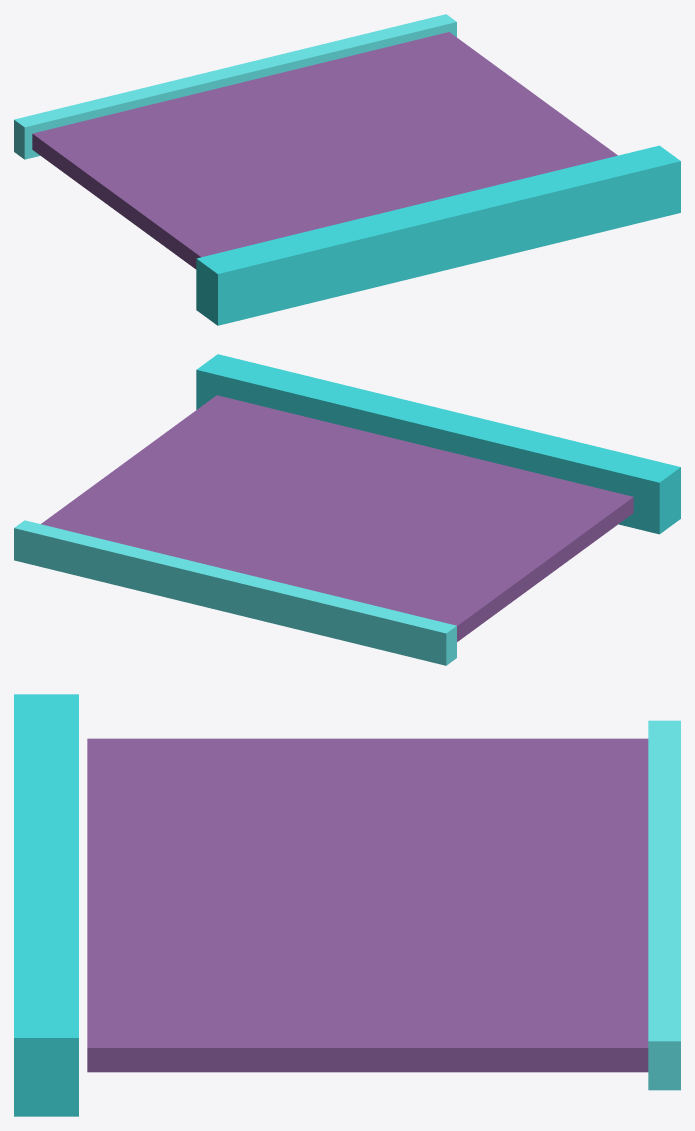
The model's file is motorized-shade-track.glb.
3 views of the same model, one above another, from view 1: azimuth 30°, elevation 25°; view 2: azimuth 150°, elevation 25°; view 3: azimuth 270°, elevation 25° (orthographic). The views are drawn at different scales.
Parts seen in each view (by area): view 1: world; view 2: world; view 3: world.
Part boxes in pixels (bbox=[...]): world: bbox=[14, 14, 680, 325]; world: bbox=[14, 354, 680, 665]; world: bbox=[14, 694, 680, 1116].
Bounding box in the file's own units: 1.5 × 0.16 × 1.23.
